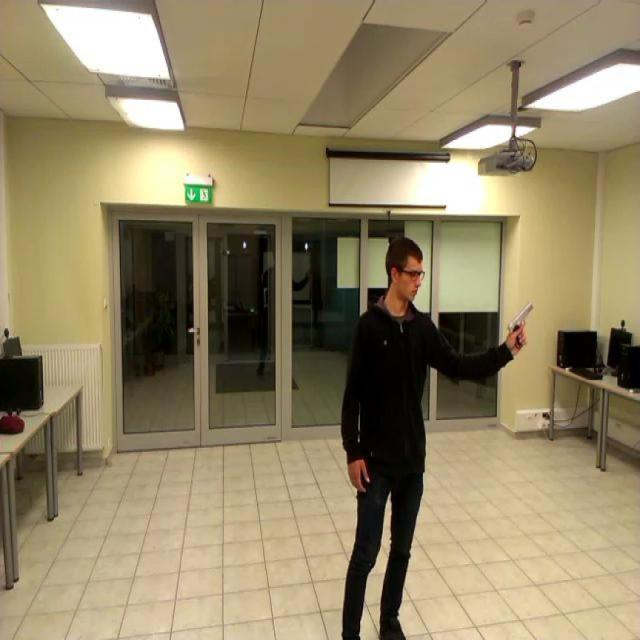pistol: (508, 300, 534, 348)
